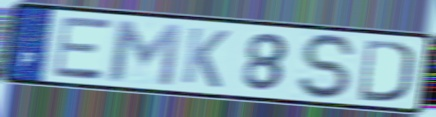8: (242, 31, 289, 93)
D: (357, 36, 415, 104)
E: (51, 16, 113, 82)
K: (179, 24, 233, 91)
M: (108, 17, 184, 89)
S: (297, 32, 361, 102)
